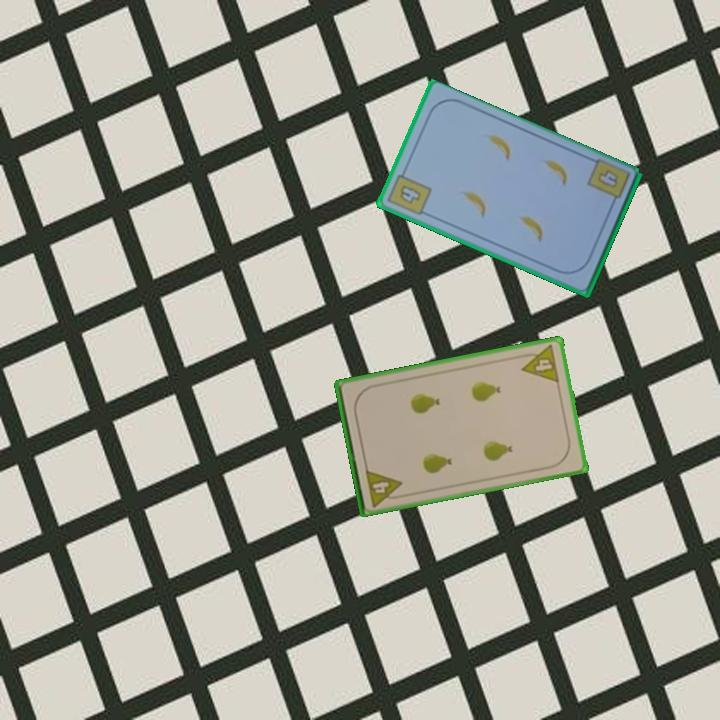4b: (384, 165, 434, 218), (593, 166, 621, 192)
4p: (516, 342, 562, 386), (362, 465, 406, 510)
